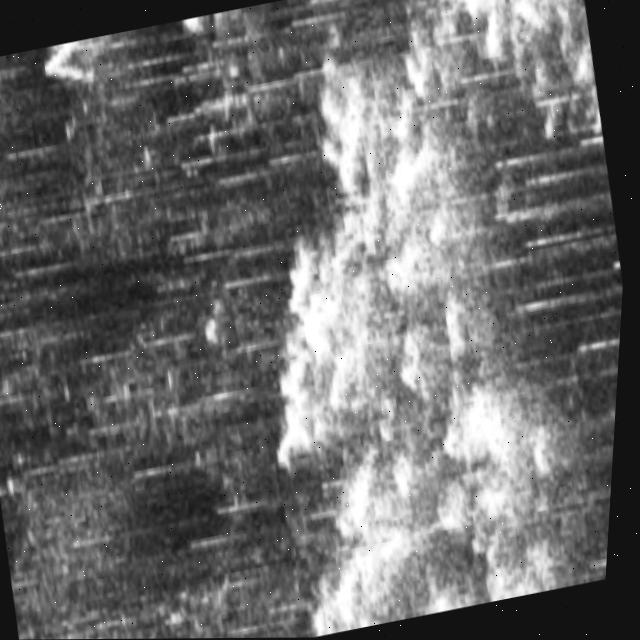bedrock group: (186, 0, 640, 639)
